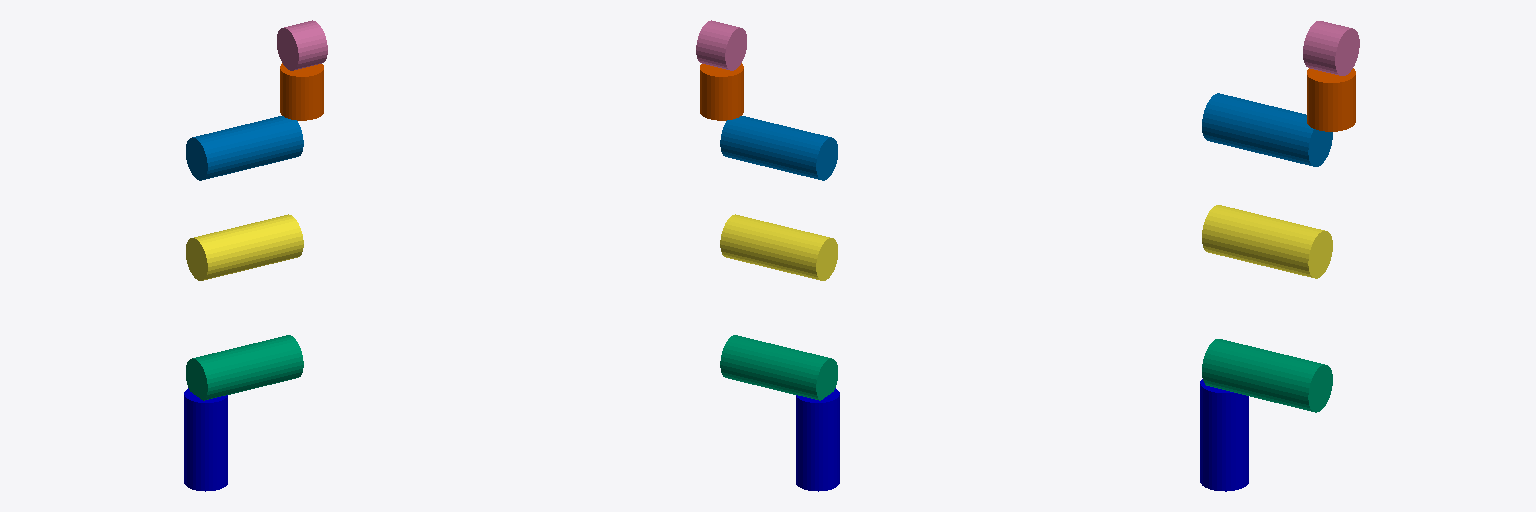
The robot description file, URDF, robot "cobot":
<?xml version="1.0"?>
<robot name="cobot">

  <!-- Base Link -->
  <link name="base_link"/>

  <!-- Joint 1: d=219.34(mm->0.21934m), a=0, alpha=pi/2 -->
  <link name="link1">
    <inertial>
      <origin xyz="0 0 0.11" rpy="0 0 0"/> <!-- 质心位置 -->
      <mass value="1.0"/>
      <inertia ixx="0.01" ixy="0" ixz="0" iyy="0.01" iyz="0" izz="0.001"/>
    </inertial>
    <visual>
      <origin xyz="0 0 0" rpy="0 0 0"/>
      <geometry>
        <cylinder length="0.22" radius="0.05"/> <!-- 沿z轴的圆柱体 -->
      </geometry>
      <material name="blue">
        <color rgba="0 0 0.8 1"/>
      </material>
    </visual>
  </link>
  
  <joint name="joint1" type="revolute">
    <origin xyz="0 0 0.21934" rpy="0 0 0"/> <!-- x=0, z=d,绕x轴旋转alpha=pi/2 -->
    <parent link="base_link"/>
    <child link="link1"/>
    <axis xyz="0 0 1"/>
    <limit lower="-3.14" upper="3.14" effort="10" velocity="1"/>
  </joint>

  <!-- Joint 2: a=-250(mm->-0.25m), alpha=0 -->
  <link name="link2">
    <inertial>
      <origin xyz="0 0 0" rpy="0 0 0"/>
      <mass value="1.0"/>
      <inertia ixx="0.01" ixy="0" ixz="0" iyy="0.01" iyz="0" izz="0.001"/>
    </inertial>
    <visual>
      <origin xyz="0.05 0 -0.05" rpy="0 1.5708 0"/> <!-- Z 軸轉 90° = 沿 Y 軸 -->
      <geometry>
        <cylinder length="0.25" radius="0.05"/> <!-- 沿x轴的圆柱体 -->
      </geometry>
      <color rgba="1 0 0 1"/>
      <material name="red"/>
    </visual>
  </link>

  <joint name="joint2" type="revolute">
    <origin xyz="0.05 0 0.2" rpy="0 0 0"/>
    <parent link="link1"/>
    <child link="link2"/>
    <axis xyz="1 0 0"/>
    <limit lower="-3.14" upper="3.14"/>
  </joint>

  <!-- Joint 3: a=-250(mm->-0.25m), alpha=0 -->
  <link name="link3">
    <inertial>
      <origin xyz="0 0 0" rpy="0 0 0"/>
      <mass value="1.0"/>
      <inertia ixx="0.01" ixy="0" ixz="0" iyy="0.01" iyz="0" izz="0.001"/>
    </inertial>
    <visual>
      <origin xyz="0 0 0" rpy="0 1.5708 0"/> <!-- 圓柱轉 90°：沿 Y 軸 -->
      <geometry>
        <cylinder length="0.25" radius="0.05"/>
      </geometry>
      <material name="green"/>
      <color rgba="0 1 0 1"/>
    </visual>
  </link>

  <joint name="joint3" type="revolute">
    <origin xyz="0.05 0 0.25" rpy="0 0 0"/>
    <parent link="link2"/>
    <child link="link3"/>
    <axis xyz="1 0 0"/>
    <limit lower="-3.14" upper="3.14"/>
  </joint>

  <!-- Joint4: d=-108(mm->-0.108m), alpha=-pi/2 -->
  <link name="link4">
    <inertial>
      <origin xyz="0 0 0.25" rpy="0 0 0"/>
      <mass value="1.0"/>
      <inertia ixx="0.01" ixy="0" ixz="0" iyy="0.01" iyz="0" izz="0.001"/>
    </inertial>
    <visual>
    <origin xyz="0 0 0" rpy="0 1.5708 0"/>
      <geometry>
        <cylinder length="0.25" radius="0.05"/> <!-- 沿y轴的圆柱体 -->
      </geometry>
      <material name="yellow"/>
    </visual>
  </link>

  <joint name="joint4" type="revolute">
    <origin xyz="0 0 0.25" rpy="0 0 0"/> <!-- 绕x轴旋转-alpha=-pi/2 -->
    <parent link="link3"/>
    <child link="link4"/>
    <axis xyz="1 0 0"/>
    <limit lower="-3.14" upper="3.14"/>
  </joint>

  <!-- Joint5: d=109.1(mm->0.1091m), alpha=pi/2 -->
  <link name="link5">
    <inertial>
      <origin xyz="0 0 0.0545" rpy="0 0 0"/>
      <mass value="1.0"/>
      <inertia ixx="0.01" ixy="0" ixz="0" iyy="0.01" iyz="0" izz="0.001"/>
    </inertial>
    <visual>
      <geometry>
        <cylinder length="0.1091" radius="0.05"/>
      </geometry>
      <material name="purple"/>
    </visual>
  </link>

  <joint name="joint5" type="revolute">
    <origin xyz="0.15 0 0.1091" rpy="0 0 1.5708"/> <!-- 绕x轴旋转alpha=pi/2 -->
    <parent link="link4"/>
    <child link="link5"/>
    <axis xyz="0 0 1"/>
    <limit lower="-3.14" upper="3.14"/>
  </joint>

  <!-- Joint6: d=-75.86(mm->-0.07586m), alpha=pi -->
  <link name="link6">
    <inertial>
      <origin xyz="0 0 -0.0379" rpy="0 0 0"/>
      <mass value="1.0"/>
      <inertia ixx="0.01" ixy="0" ixz="0" iyy="0.01" iyz="0" izz="0.001"/>
    </inertial>
    <visual>
      <geometry>
        <cylinder length="0.07586" radius="0.05"/>
      </geometry>
      <material name="orange"/>
    </visual>
  </link>

  <joint name="joint6" type="revolute">
    <origin xyz="0 0 0.1091" rpy="1.5708 0 0"/> <!-- 绕x轴旋转alpha=pi -->
    <parent link="link5"/>
    <child link="link6"/>
    <axis xyz="0 0 1"/>
    <limit lower="-3.14" upper="3.14"/>
  </joint>

</robot>

--- Facts derived from the render (not from the file) ---
The picture shows the robot from 3 angles, left to right: view 1: azimuth 30°, elevation 25°; view 2: azimuth 150°, elevation 25°; view 3: azimuth 330°, elevation 25°; orthographic projection.
Robot: cobot — 7 links, 6 joints (6 revolute); root link base_link; default pose: every joint at zero.
Links seen in each view (by area): view 1: link3, link2, link4, link1, link5, link6; view 2: link3, link2, link4, link1, link5, link6; view 3: link3, link2, link4, link1, link5, link6.
Boxes of the visible links, bbox=[...] form: link3: bbox=[186, 214, 303, 280]; link2: bbox=[186, 335, 303, 400]; link4: bbox=[186, 116, 303, 180]; link1: bbox=[184, 388, 227, 491]; link5: bbox=[280, 63, 323, 120]; link6: bbox=[277, 20, 327, 70]; link3: bbox=[720, 214, 837, 280]; link2: bbox=[720, 335, 837, 400]; link4: bbox=[720, 116, 837, 180]; link1: bbox=[796, 388, 839, 491]; link5: bbox=[700, 63, 743, 120]; link6: bbox=[696, 20, 746, 70]; link3: bbox=[1202, 205, 1332, 278]; link2: bbox=[1202, 339, 1332, 412]; link4: bbox=[1202, 93, 1332, 166]; link1: bbox=[1200, 379, 1248, 491]; link5: bbox=[1307, 68, 1355, 131]; link6: bbox=[1303, 21, 1359, 75].
Size in the robot's own frame: 0.35 by 0.1 by 1.08 metres.
Geometry: primitives only (box / cylinder / sphere), no mesh files.
